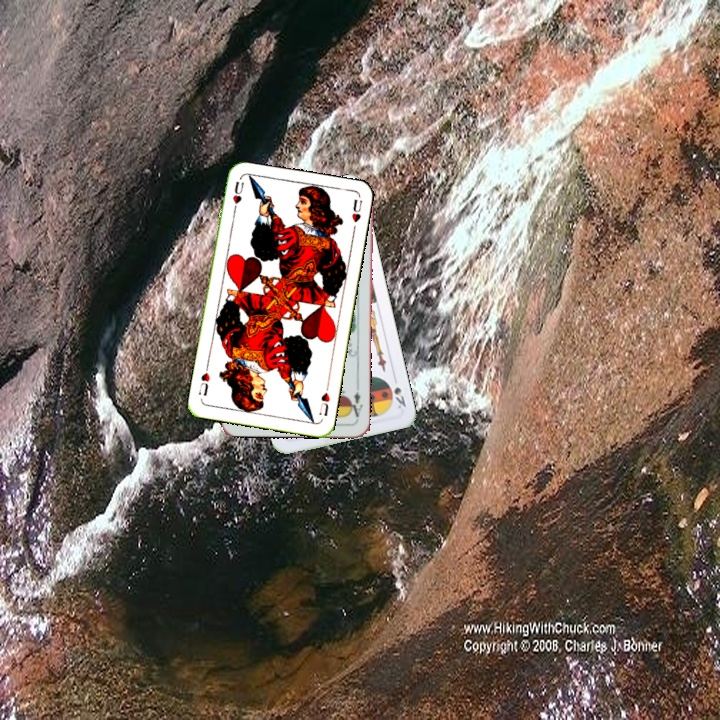EA: (345, 382, 365, 422)
HU: (228, 177, 246, 216), (315, 381, 333, 419)
SK: (389, 372, 408, 411)
